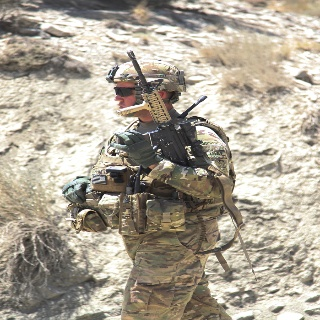rifle: (120, 47, 211, 211)
